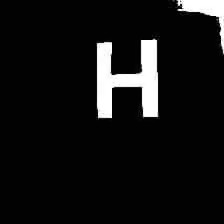LTR_H: (88, 33, 166, 125)
